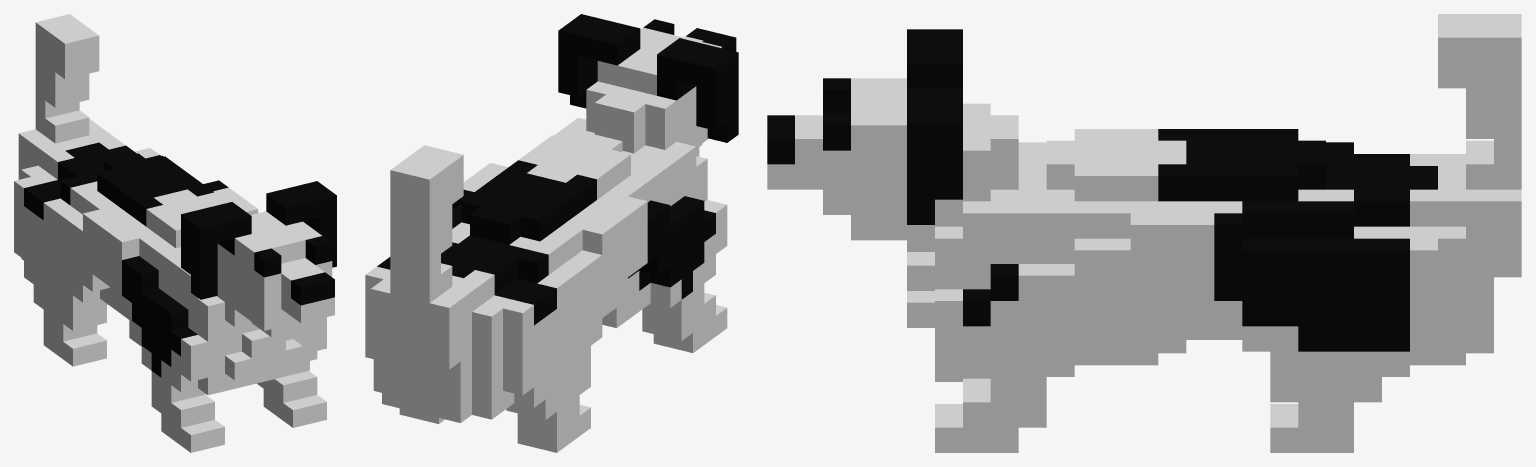
The model's file is koira.gltf.
3 views of the same model, side by side, from view 1: azimuth 30°, elevation 25°; view 2: azimuth 150°, elevation 25°; view 3: azimuth 270°, elevation 25° (orthographic). The views are drawn at different scales.
Visible parts, largest first — view 1: dog; view 2: dog; view 3: dog.
Part boxes in pixels (left/top/right/bottom): dog: left=14, top=14, right=336, bottom=452; dog: left=365, top=14, right=738, bottom=452; dog: left=767, top=14, right=1521, bottom=452.
Bounding box in the file's own units: 8 × 15 × 27.
1 material, 1 textured.
